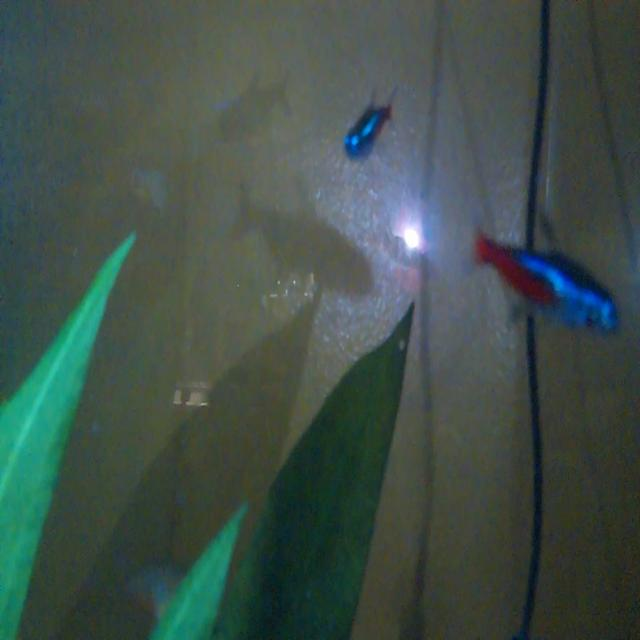fish: (473, 215, 621, 341), (332, 90, 402, 161)
